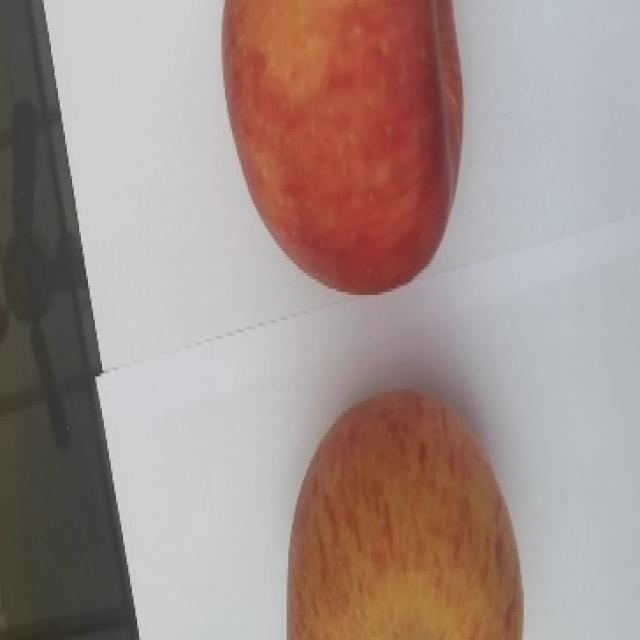Apple: (220, 0, 464, 295), (285, 388, 524, 639)
